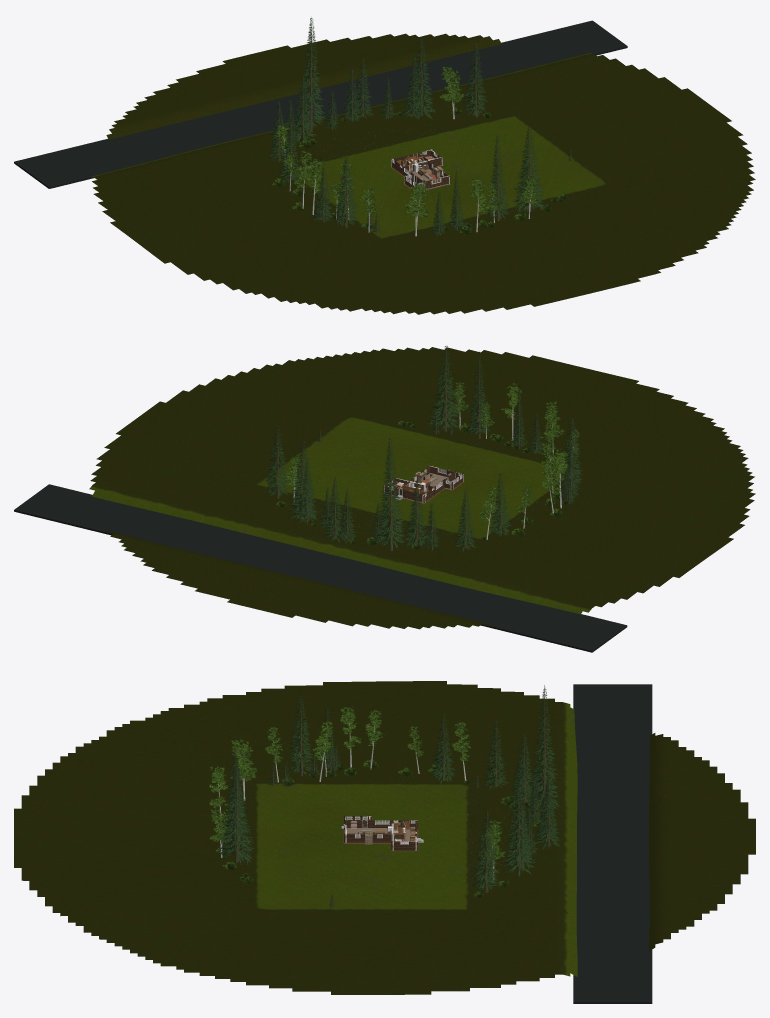
Rendered from cabin_v4_floor1_open.glb.
The picture shows the model from 3 angles, top to bottom: view 1: azimuth 30°, elevation 25°; view 2: azimuth 150°, elevation 25°; view 3: azimuth 270°, elevation 25°; orthographic projection. The views are drawn at different scales.
Visible parts, largest first — view 1: Ground, River, P_Fir0_inst.077, P_Spruce1_inst.042, P_Spruce2_inst.077, P_Spruce0_inst.066, P_Spruce0_inst.046, P_Fir0_inst.042, P_Spruce1_inst.066, P_Spruce2_inst.079, P_Birch1_inst.040, P_Spruce3_inst.061 (+4 smaller); view 2: Ground, River, P_Fir0_inst.077, P_Spruce1_inst.042, P_Spruce2_inst.077, P_Spruce0_inst.066, P_Fir0_inst.042, P_Spruce1_inst.066, P_Spruce3_inst.061, P_Spruce0_inst.046, P_Spruce2_inst.079, P_Spruce2_inst.072 (+4 smaller); view 3: Ground, River, P_Fir0_inst.077, P_Spruce1_inst.042, P_Spruce2_inst.077, P_Spruce0_inst.066, P_Spruce0_inst.046, P_Spruce3_inst.061, P_Spruce1_inst.066, P_Spruce2_inst.079, P_Spruce2_inst.072, GrassTufts (+4 smaller).
Part boxes in pixels (x1,y1,x2,y2): Ground: [91, 33, 755, 314]; River: [14, 20, 627, 188]; P_Fir0_inst.077: [294, 18, 326, 131]; P_Spruce1_inst.042: [512, 124, 544, 212]; P_Spruce2_inst.077: [406, 36, 436, 119]; P_Spruce0_inst.066: [463, 41, 488, 118]; P_Spruce0_inst.046: [334, 155, 358, 228]; P_Fir0_inst.042: [485, 135, 509, 221]; P_Spruce1_inst.066: [292, 74, 316, 142]; P_Spruce2_inst.079: [353, 55, 373, 118]; P_Birch1_inst.040: [405, 180, 429, 236]; P_Spruce3_inst.061: [278, 118, 299, 182]; Ground: [89, 347, 755, 629]; River: [14, 484, 627, 652]; P_Fir0_inst.077: [374, 434, 405, 550]; P_Spruce1_inst.042: [428, 346, 461, 431]; P_Spruce2_inst.077: [288, 438, 318, 521]; P_Spruce0_inst.066: [265, 423, 289, 498]; P_Fir0_inst.042: [467, 351, 490, 438]; P_Spruce1_inst.066: [403, 481, 428, 548]; P_Spruce3_inst.061: [489, 473, 511, 537]; P_Spruce0_inst.046: [560, 416, 583, 489]; P_Spruce2_inst.079: [324, 477, 344, 542]; P_Spruce2_inst.072: [454, 489, 476, 551]; Ground: [14, 681, 755, 994]; River: [573, 684, 652, 1003]; P_Fir0_inst.077: [526, 685, 559, 812]; P_Spruce1_inst.042: [217, 763, 255, 864]; P_Spruce2_inst.077: [502, 780, 535, 877]; P_Spruce0_inst.066: [472, 810, 500, 892]; P_Spruce0_inst.046: [287, 693, 313, 776]; P_Spruce3_inst.061: [430, 711, 455, 784]; P_Spruce1_inst.066: [510, 731, 535, 806]; P_Spruce2_inst.079: [536, 776, 560, 849]; P_Spruce2_inst.072: [483, 719, 509, 790]; GrassTufts: [249, 780, 513, 895].
Bounding box in the file's own units: 154 × 32.14 × 152.
59 materials, 30 textured.
